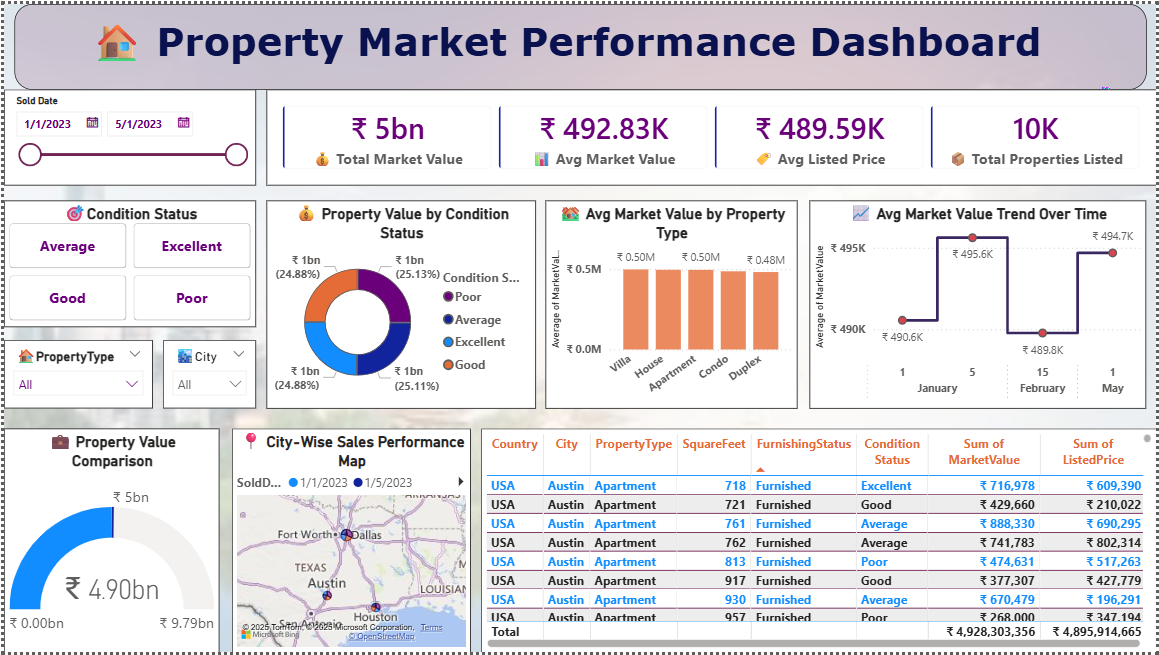

What the dashboard file says about the page in this screenshot:
{"tool":"powerbi","page":{"name":"Market Performance","canvas":[1280,720],"ordinal":0},"visuals":[{"type":"textbox","box":[11.3,0,1258.1,95.5],"z":0},{"type":"lineChart","title":"📈 Avg Market Value Trend Over Time","fields":{"Category":["Properties.SoldDate.Variation.Date Hierarchy.Month","Properties.SoldDate.Variation.Date Hierarchy.Day"],"Y":["Avg(Properties.MarketValue)"]},"box":[895.4,218.6,374,231.5],"z":1000},{"type":"slicer","fields":{"Values":["Properties.SoldDate"]},"box":[0,95.5,280.1,106.9],"z":2000},{"type":"gauge","title":"💼 Property Value Comparison","fields":{"TargetValue":["Sum(Properties.MarketValue)"],"Y":["Sum(Properties.ListedPrice)"]},"box":[0,471.2,239.6,249.4],"z":3000},{"type":"tableEx","fields":{"Values":["Properties.Country","Properties.City","Properties.PropertyType","Properties.SquareFeet","Properties.FurnishingStatus","Properties.ConditionStatus","Sum(Properties.MarketValue)","Sum(Properties.ListedPrice)"]},"box":[529.5,471.2,751.3,249.4],"z":4000},{"type":"cardVisual","fields":{"Data":["Sum(Properties.MarketValue)","Avg(Properties.MarketValue)","Avg(Properties.ListedPrice)","CountNonNull(Properties.PropertyID)"]},"box":[291.5,95.5,989.3,106.9],"z":5000},{"type":"columnChart","title":"🏘️ Avg Market Value by Property Type","fields":{"Category":["Properties.PropertyType"],"Y":["Avg(Properties.MarketValue)"]},"box":[602.4,218.6,280.1,231.5],"z":6000},{"type":"donutChart","title":"💰 Property Value by Condition Status","fields":{"Category":["Properties.ConditionStatus"],"Y":["Sum(Properties.MarketValue)"]},"box":[291.5,218.6,299.6,231.5],"z":7000},{"type":"map","title":"📍 City-Wise Sales Performance Map","fields":{"Category":["Properties.City","Properties.Country"],"Series":["Properties.SoldDate"],"Size":["Sum(Properties.MarketValue)"]},"box":[252.6,471.2,265.6,249.4],"z":8000},{"type":"slicer","fields":{"Values":["Properties.City"]},"box":[176.5,374,103.6,76.1],"z":9000},{"type":"slicer","fields":{"Values":["Properties.PropertyType"]},"box":[0,374,165.2,76.1],"z":10000},{"type":"advancedSlicerVisual","fields":{"Values":["Properties.ConditionStatus"]},"box":[0,218.6,280.1,140.9],"z":11000}]}

Visuals, with their boxes in screenshot pixels (x1, y1, x2, y2), scaled from the page's 1280x720 canvas onto the 1159x655 screenshot:
textbox: (10,0,1149,87)
"📈 Avg Market Value Trend Over Time" lineChart: (811,199,1149,409)
slicer - Properties.SoldDate: (0,87,254,184)
"💼 Property Value Comparison" gauge: (0,429,217,654)
tableEx - Properties.Country x Properties.City: (479,429,1158,654)
cardVisual - Sum(Properties.MarketValue) x Avg(Properties.MarketValue): (264,87,1158,184)
"🏘️ Avg Market Value by Property Type" columnChart: (545,199,799,409)
"💰 Property Value by Condition Status" donutChart: (264,199,535,409)
"📍 City-Wise Sales Performance Map" map: (229,429,469,654)
slicer - Properties.City: (160,340,254,409)
slicer - Properties.PropertyType: (0,340,150,409)
advancedSlicerVisual - Properties.ConditionStatus: (0,199,254,327)
